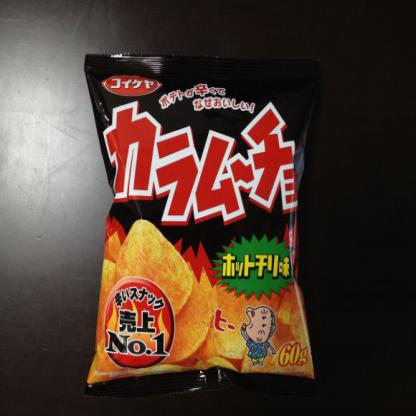potatochip: (74, 45, 320, 395)
